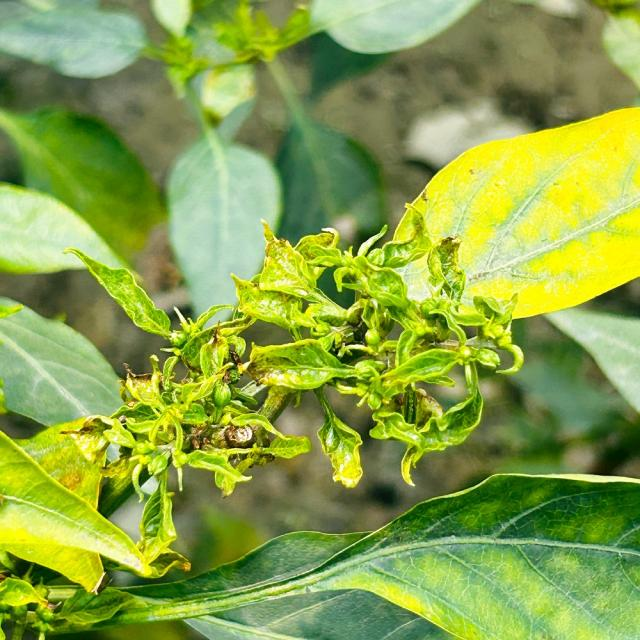Chilli_Leaf_Curl: (1, 101, 638, 636), (41, 471, 638, 638), (230, 217, 524, 488), (381, 105, 639, 323), (0, 420, 155, 594), (0, 295, 127, 428), (0, 180, 140, 276), (62, 245, 174, 341)
